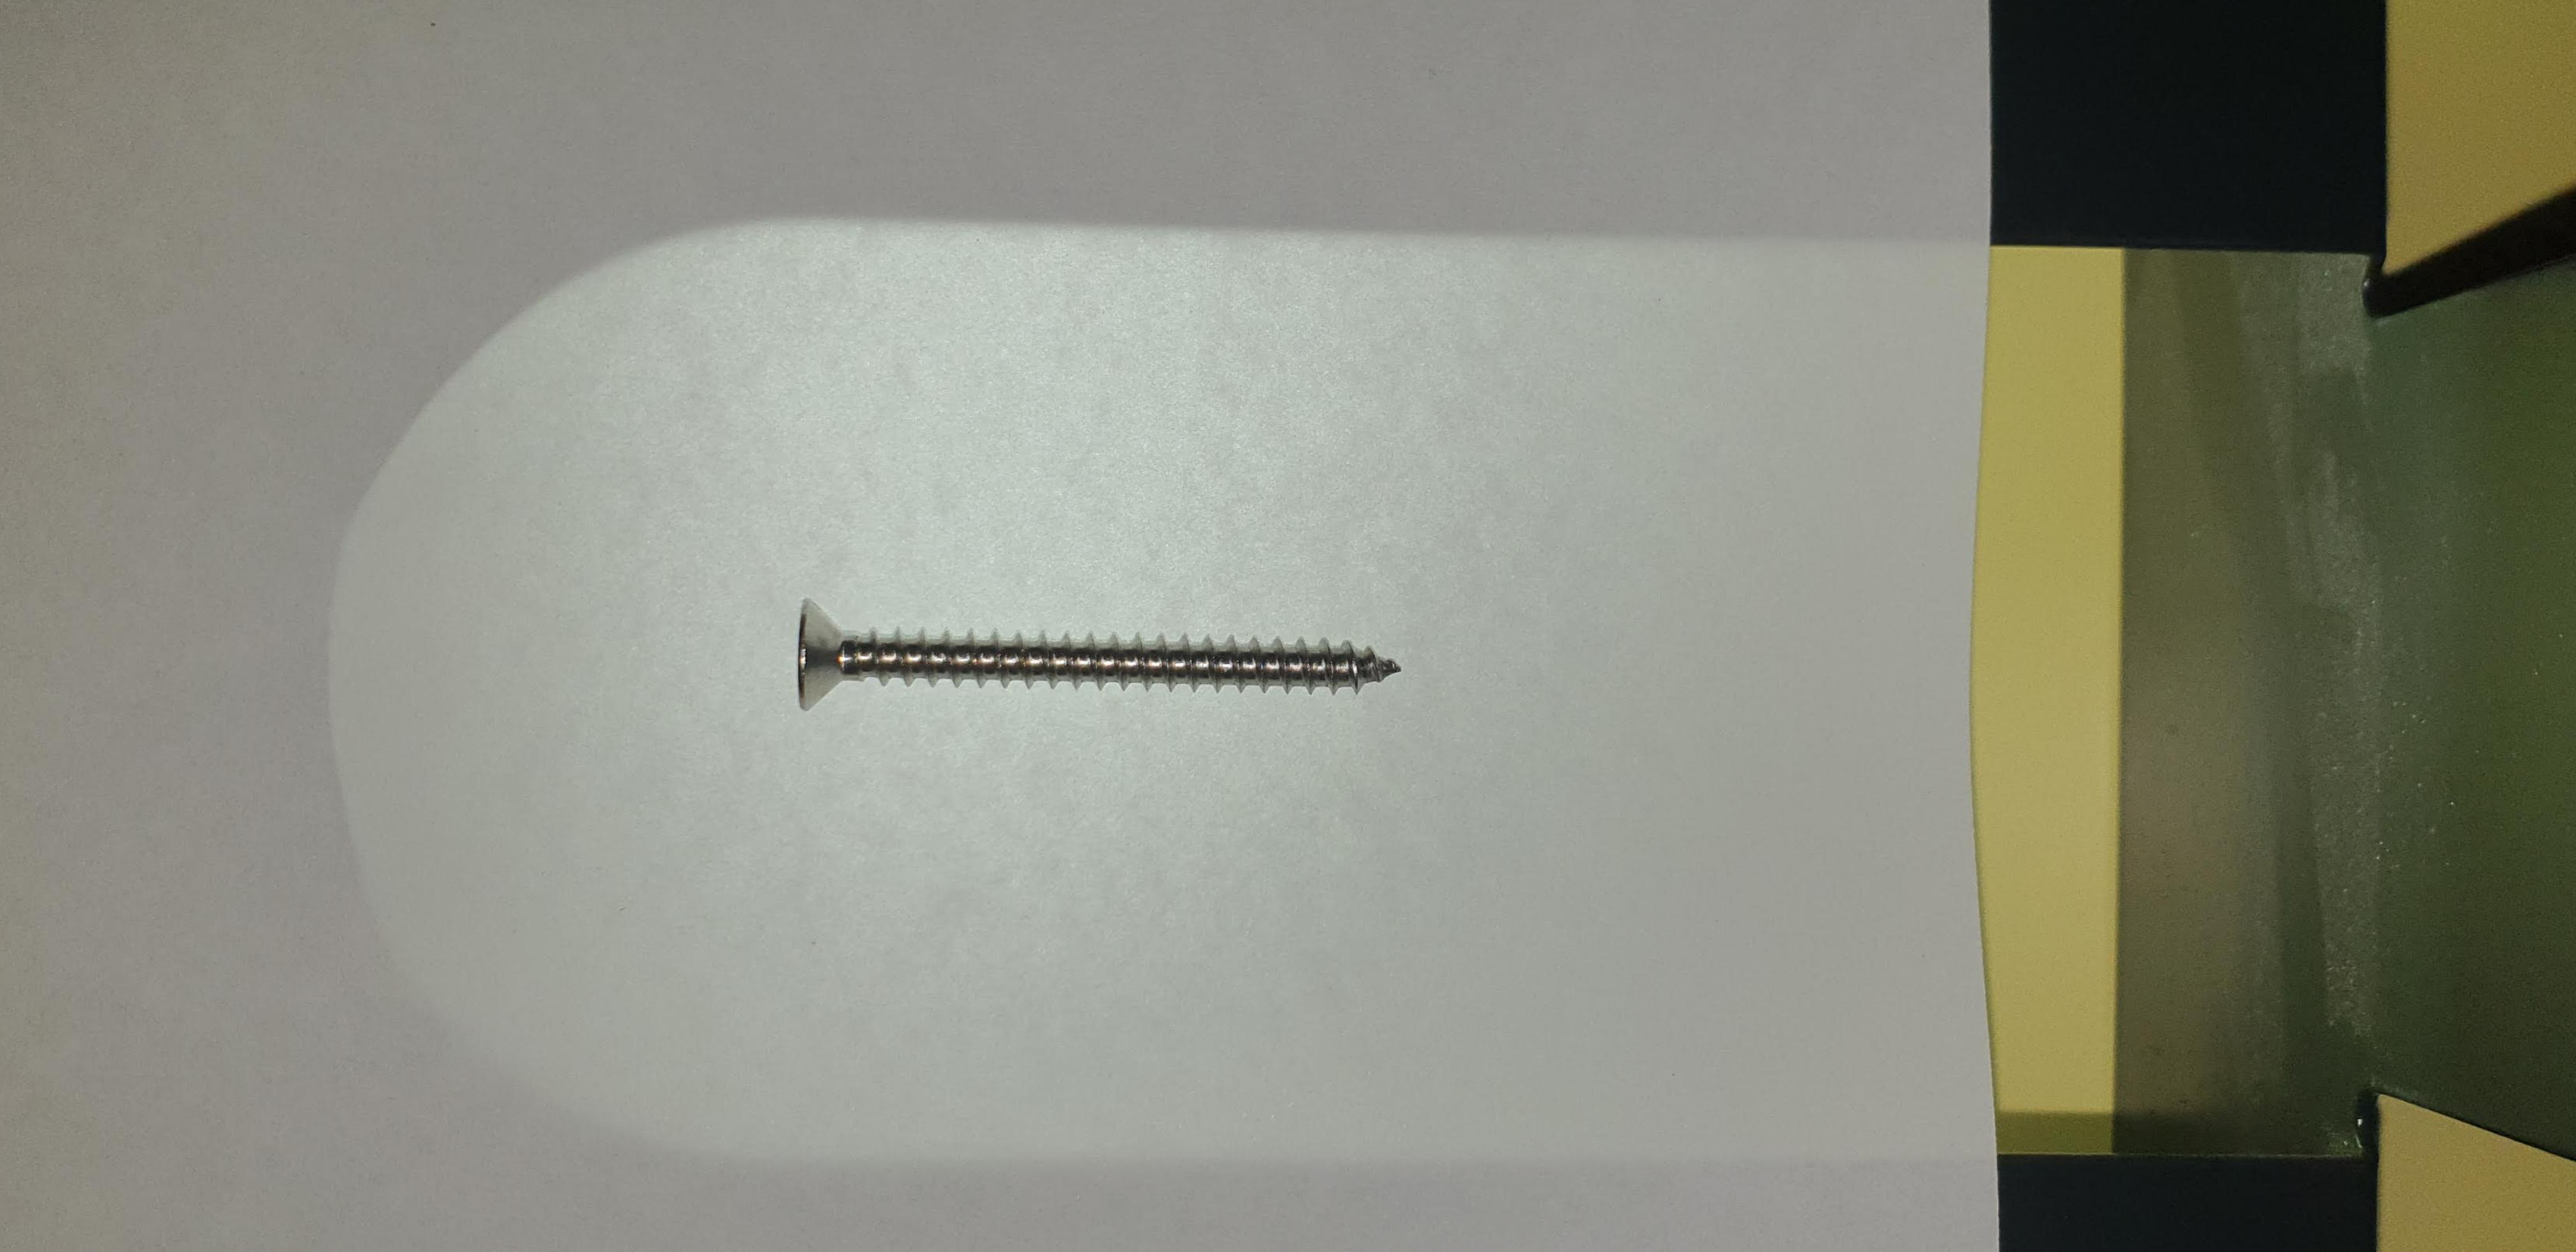fastener: (777, 572, 1424, 730)
